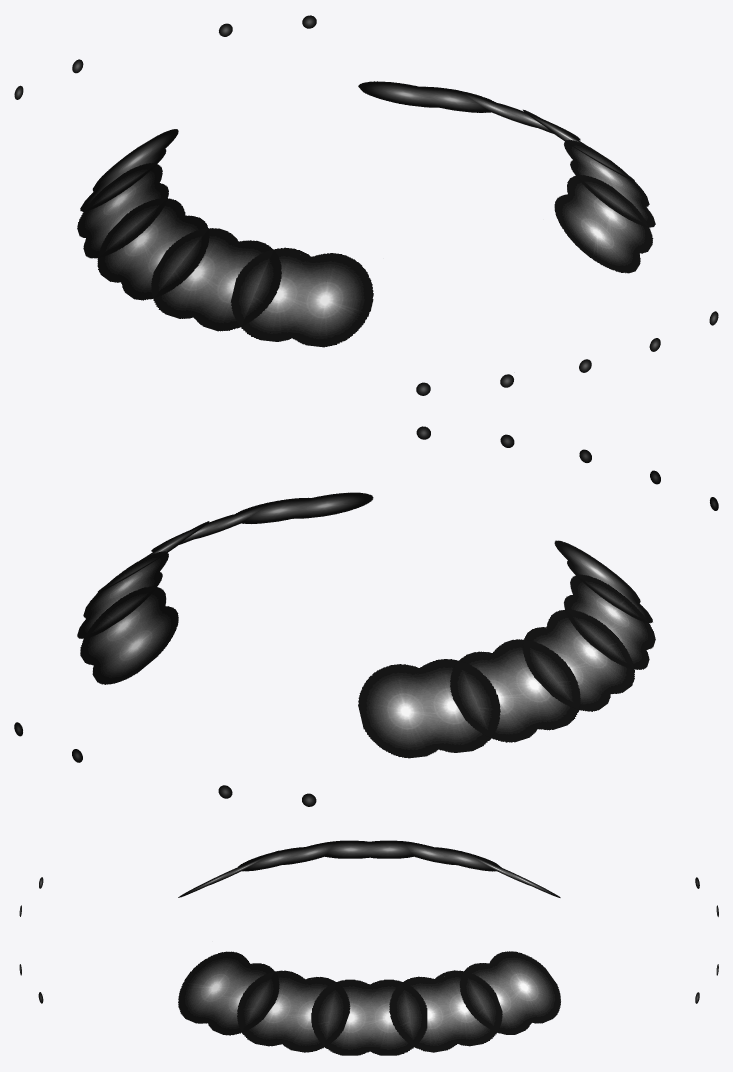
3 views of the same model, one above another, from view 1: azimuth 30°, elevation 25°; view 2: azimuth 150°, elevation 25°; view 3: azimuth 270°, elevation 25° (orthographic). The views are drawn at different scales.
Size of the model in its own units: 175 by 19.37 by 260.
2 materials, 2 textured.
